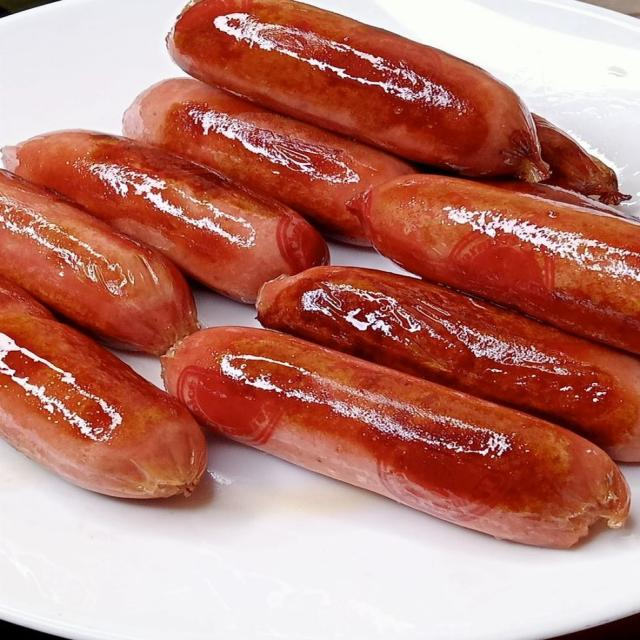sausage: (163, 327, 628, 548), (257, 267, 639, 461), (168, 0, 548, 182), (5, 131, 328, 302), (353, 175, 639, 354), (124, 79, 415, 245), (0, 282, 206, 497), (0, 170, 197, 354), (533, 115, 630, 204), (485, 179, 638, 221), (0, 276, 53, 319)
